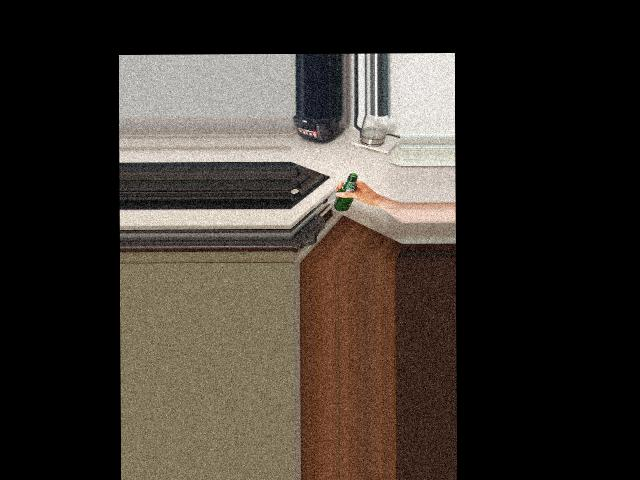beer: (333, 173, 358, 212)
